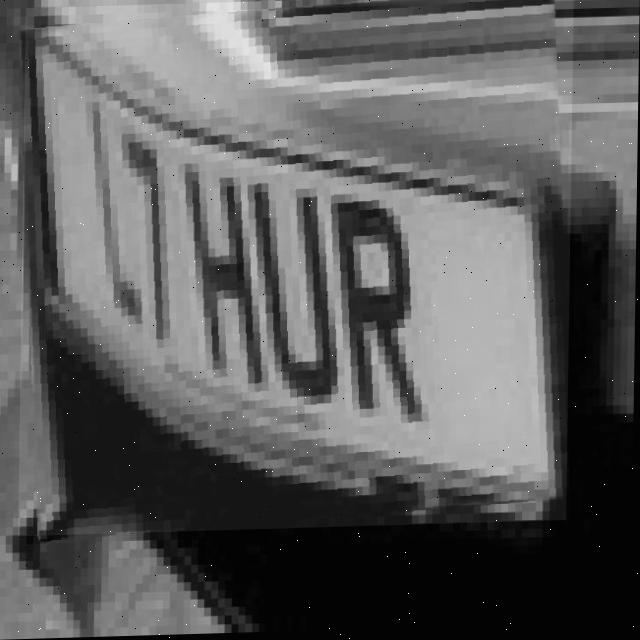LicensePlate: (20, 0, 574, 536)
